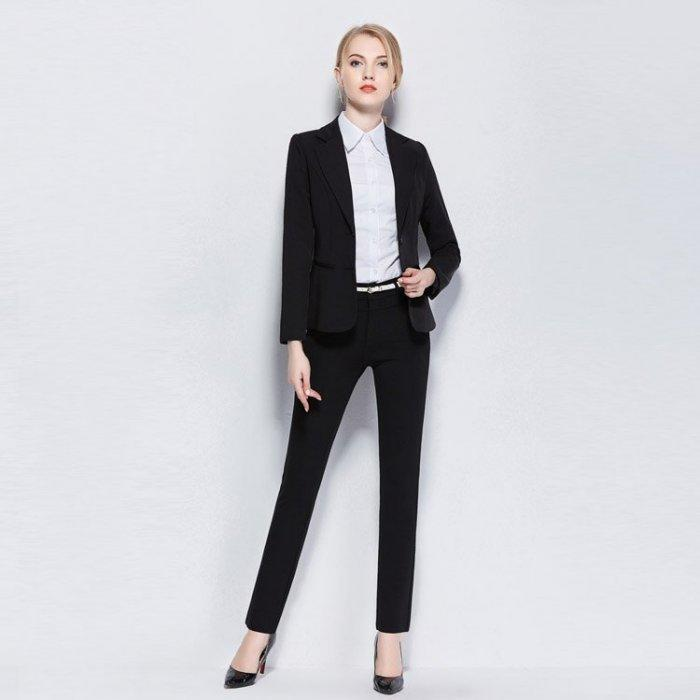F_W_pants: (238, 287, 450, 644)
F_W_suit jacket: (279, 106, 460, 333)
F_shirt: (337, 109, 412, 283)
